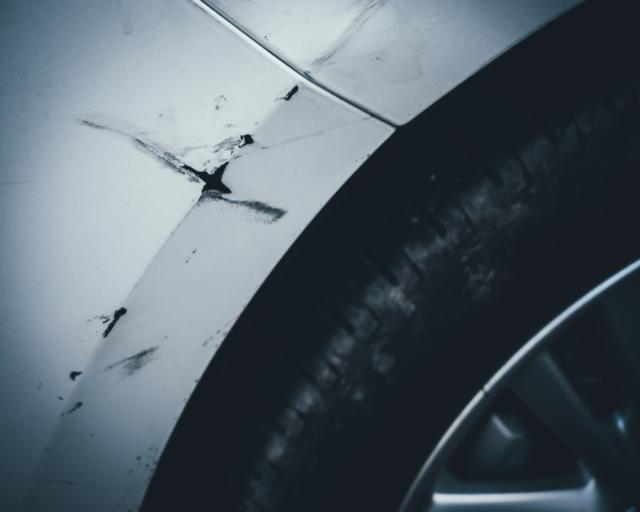scratch: (72, 78, 301, 231), (43, 302, 175, 422)
